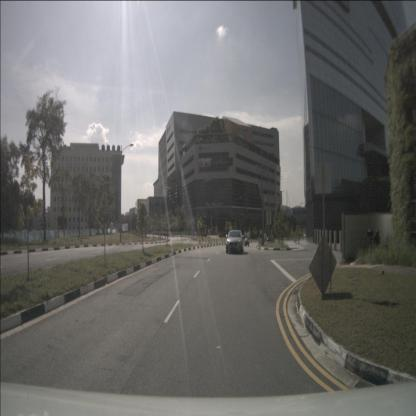vehicle-car: (226, 230, 244, 253), (258, 233, 267, 244), (264, 233, 270, 242)
vehicle-motorcycle: (367, 229, 386, 254), (244, 230, 249, 247)
